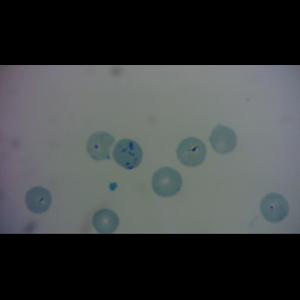aggregate reticulocyte: (111, 137, 144, 171)
erythrocyte: (175, 136, 208, 168), (207, 122, 238, 155), (24, 185, 54, 215), (90, 207, 120, 234)
punctate reticulocyte: (150, 165, 184, 198), (258, 191, 290, 224), (85, 130, 116, 162)
